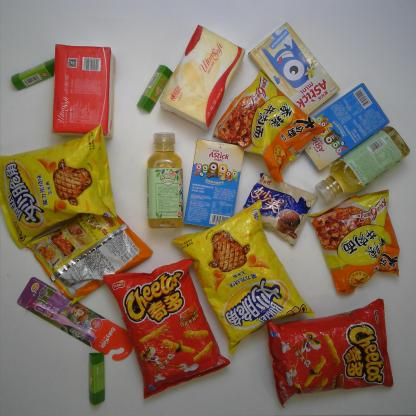Dessert: (247, 20, 344, 126), (301, 83, 395, 170), (181, 139, 258, 232), (246, 167, 316, 243)
Drink: (314, 128, 411, 206), (145, 134, 188, 232)
Instant Noodles: (25, 205, 153, 300), (215, 70, 321, 181), (309, 190, 409, 299)
Personal Hygiene: (14, 274, 134, 366)
Puffed Food: (166, 202, 315, 346), (100, 260, 232, 400), (1, 127, 134, 250), (259, 297, 403, 406)
Stationery: (84, 348, 116, 412), (136, 62, 172, 115), (7, 57, 64, 90)
Tissue: (164, 24, 245, 135), (46, 39, 131, 142)
